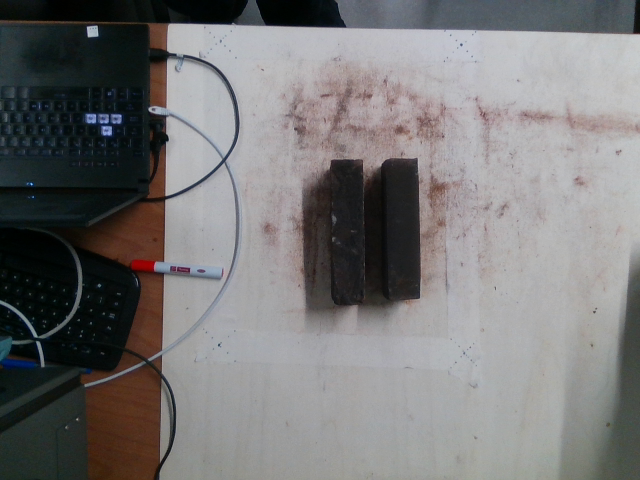brick-side: (329, 159, 366, 301), (387, 161, 419, 297)
